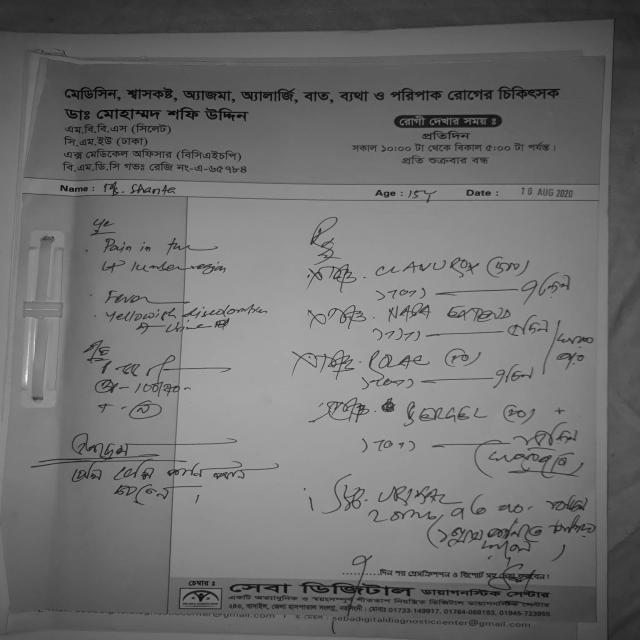Clavurox: (372, 255, 483, 281)
Napa Extend: (382, 298, 517, 326)
Rolac: (361, 345, 438, 375)
Sergel: (399, 398, 490, 426)
Urikal: (378, 483, 460, 510)
